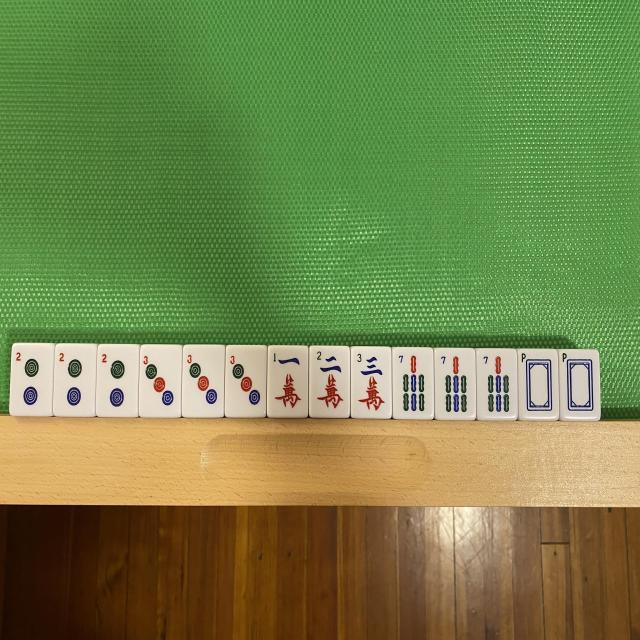hdw: (560, 350, 598, 420), (519, 351, 557, 418)
sb7: (434, 349, 474, 419), (393, 348, 433, 418), (478, 350, 516, 420)
sc1: (268, 347, 308, 417)
sc2: (309, 347, 349, 418)
sc3: (350, 348, 390, 418)
sd2: (96, 346, 138, 416), (54, 346, 96, 414), (12, 345, 52, 415)
sd3: (182, 346, 223, 418), (224, 346, 266, 416), (140, 346, 180, 416)
